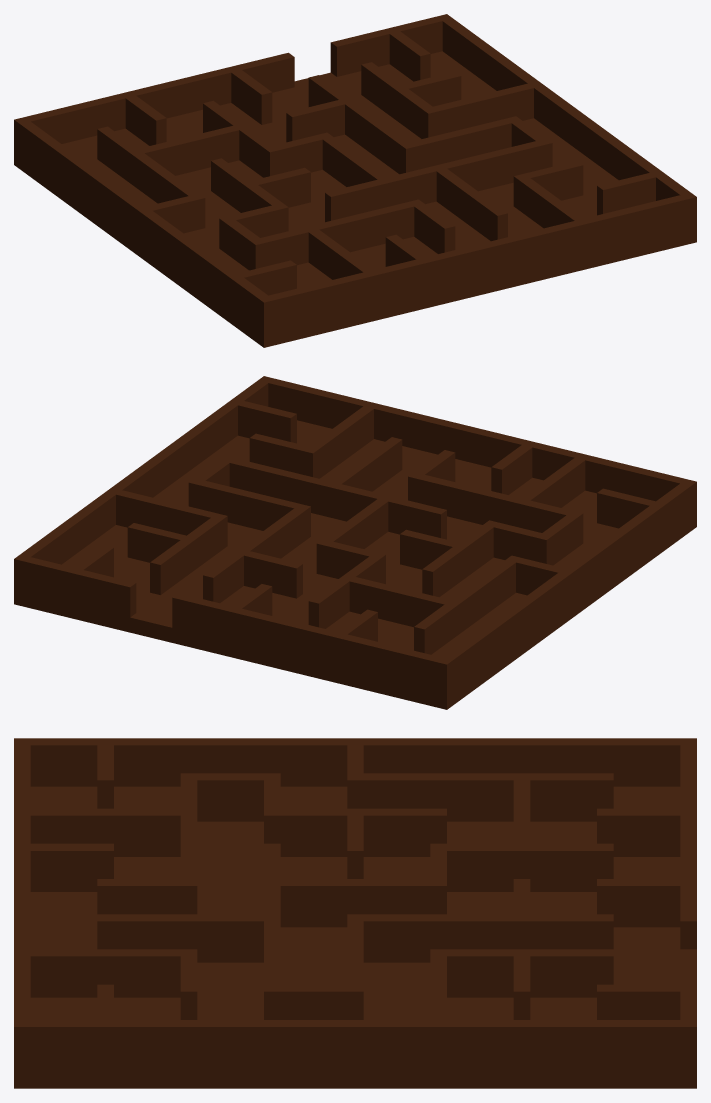
The model's file is Labyrinth6.obj.
3 renders of one model, top to bottom at view 1: azimuth 30°, elevation 25°; view 2: azimuth 150°, elevation 25°; view 3: azimuth 270°, elevation 25°, orthographic. The views are drawn at different scales.
Parts seen in each view (by area): view 1: aLabyrinth; view 2: aLabyrinth; view 3: aLabyrinth.
Part boxes in pixels (bbox=[...]): aLabyrinth: bbox=[14, 14, 696, 347]; aLabyrinth: bbox=[14, 376, 696, 709]; aLabyrinth: bbox=[14, 738, 696, 1088].
Bounding box in the file's own units: 30 × 3 × 30.
